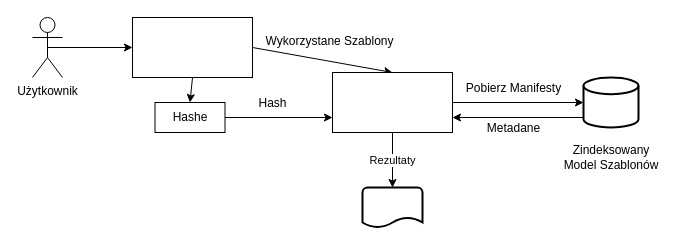
This 679x246 diagram has some shape labels left out. Each missing label, with the box of its shape:
Definicja Zasobu: (132, 16, 252, 78)
Serwis Wypełniania Szablonów: (332, 72, 452, 132)
